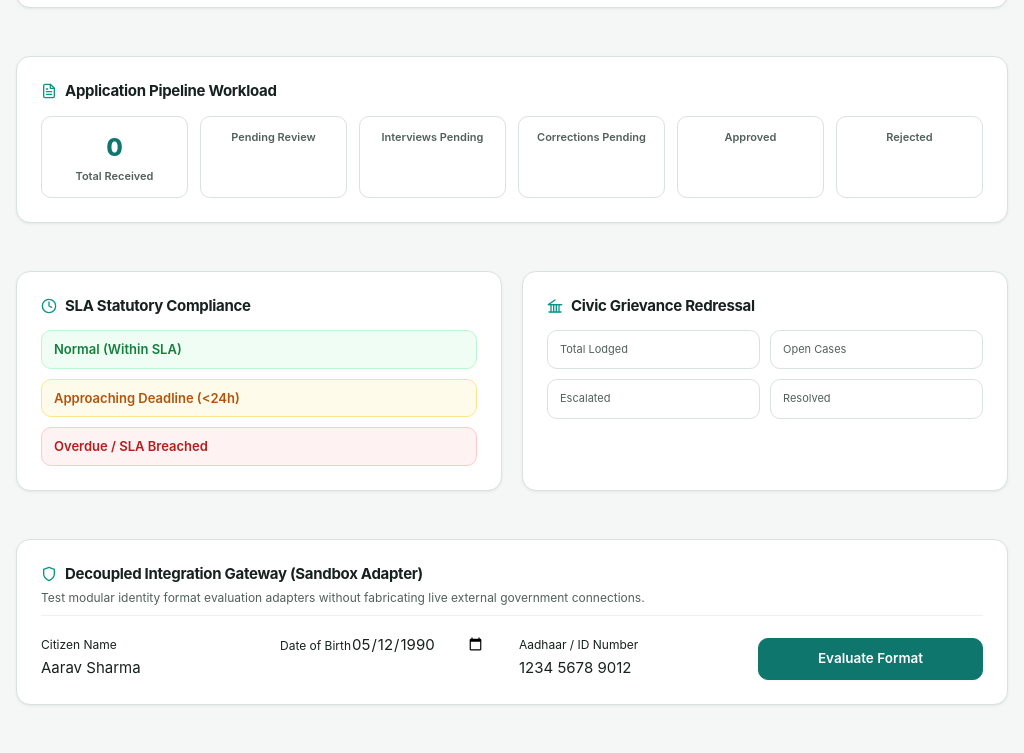
Scenario: Privacy & System Operations Tests › executes sandbox identity verification in AdminOperations
(page scrolled)
Expected: the text "Decoupled Integration Gateway (Sandbox Adapter)" is shown, [65,564,423,584]
Click the button "Evaluate Format": (870, 659) [758,638,983,680]
(page scrolled)
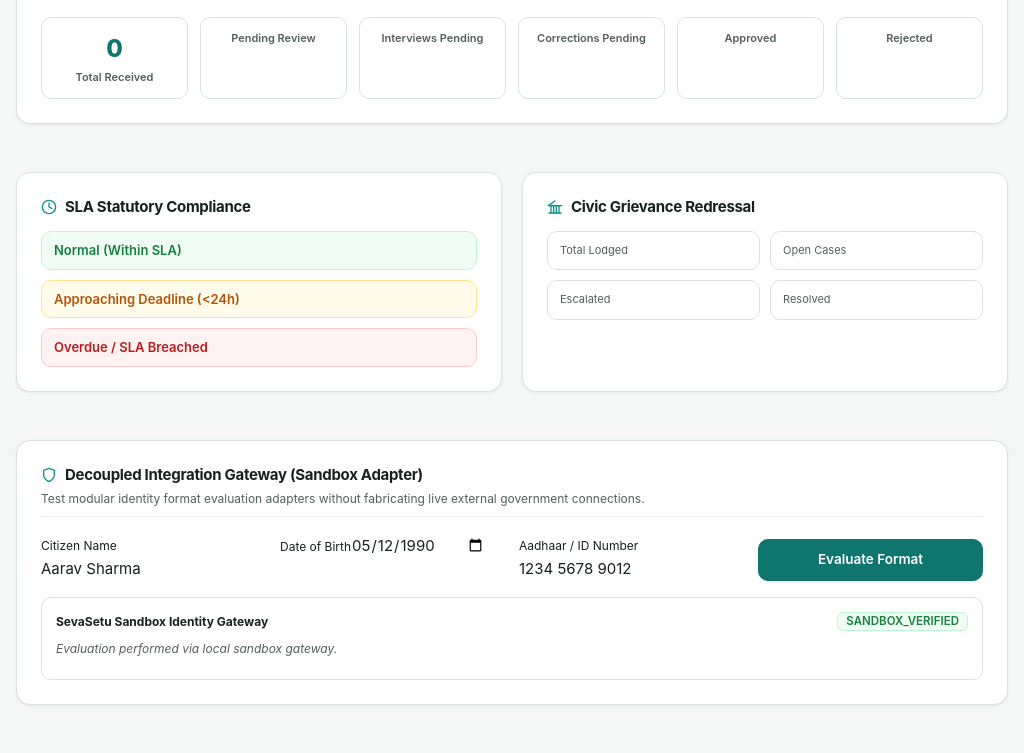
Result: the text "Evaluation performed via local sandbox gateway." is shown at [56,642,337,656]
